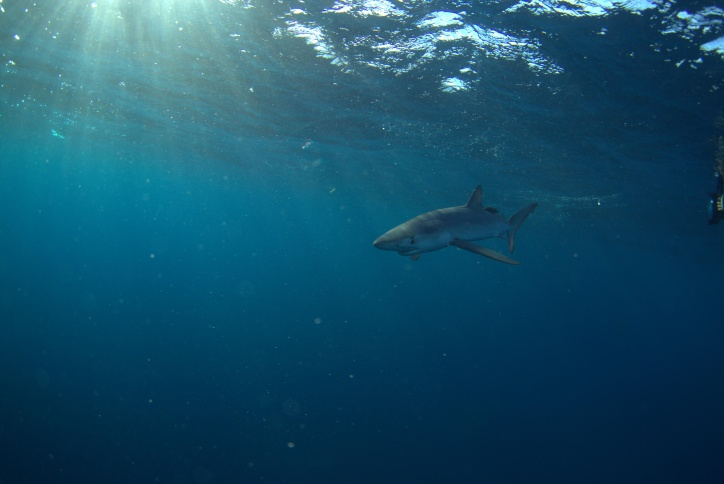Azul: (364, 169, 552, 289)
